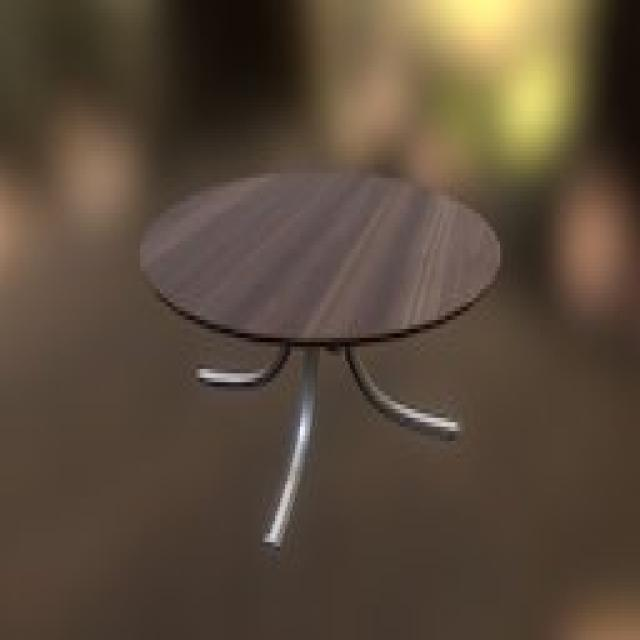table: (140, 165, 500, 547)
